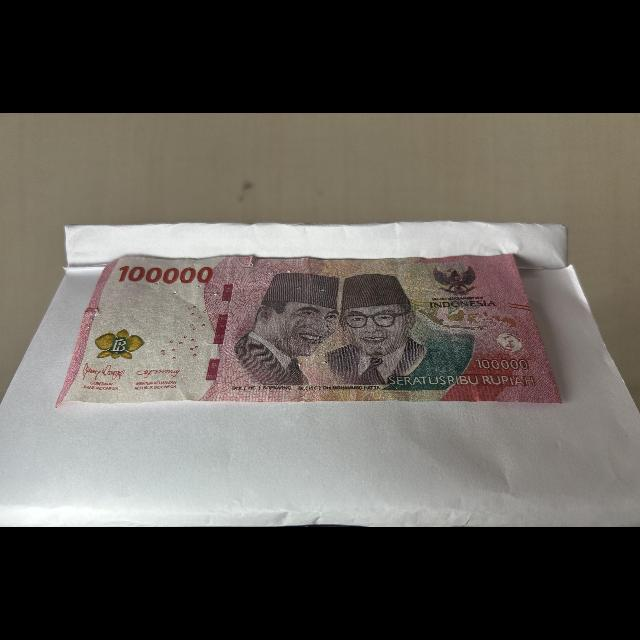Palsu-100k: (50, 248, 566, 411)
Tinta-Palsu-100k: (89, 327, 148, 362)
